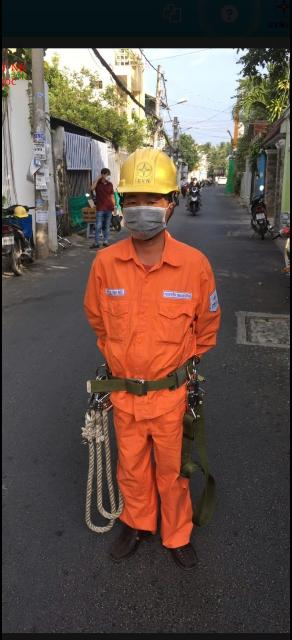harness: (70, 358, 221, 407)
helmet: (109, 141, 184, 198)
shoes: (94, 508, 153, 566), (165, 521, 202, 571)
